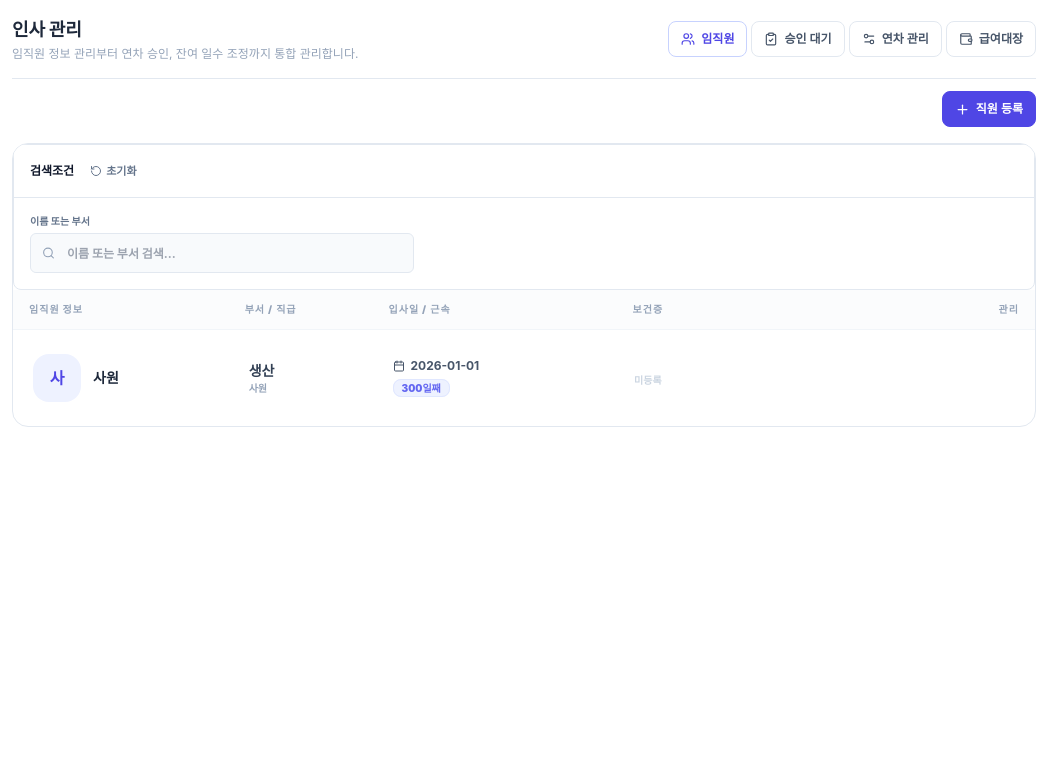
Test case: 격리 급여 명령 화면 후보 › 서버 버전 충돌 실패는 입력을 보존하고 성공 메시지를 표시하지 않는다
Click the button "급여대장" at [991, 39], box [946,21,1036,57]
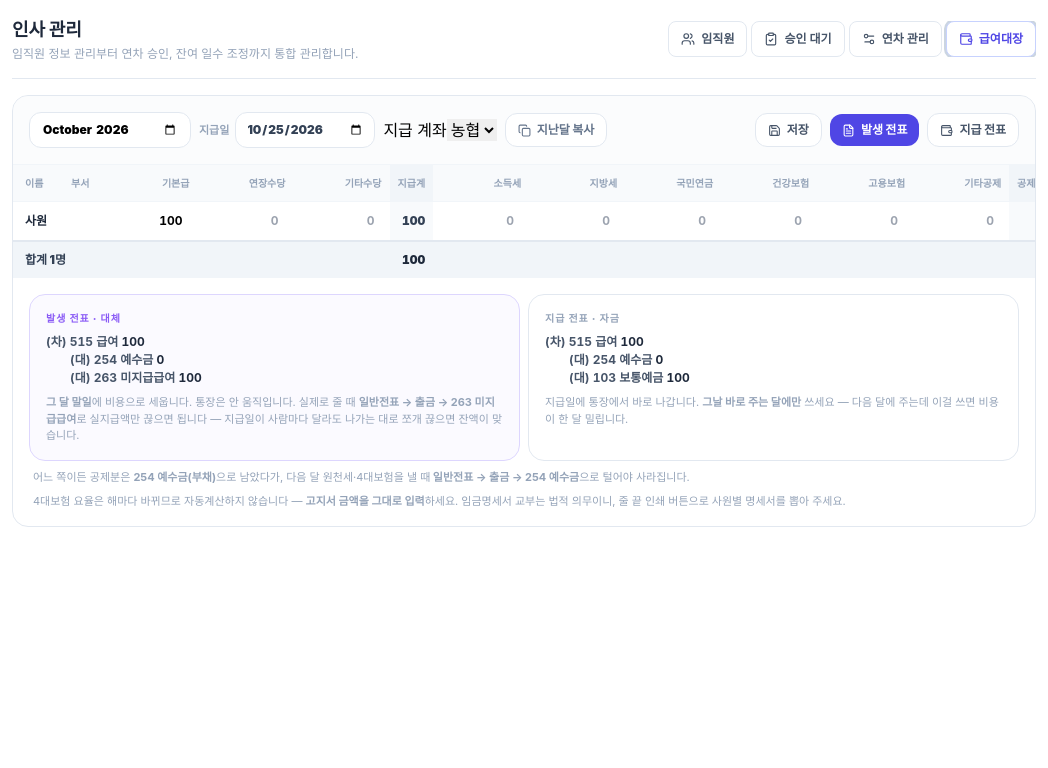
Click the button "저장" at [788, 130], box [755,113,822,147]
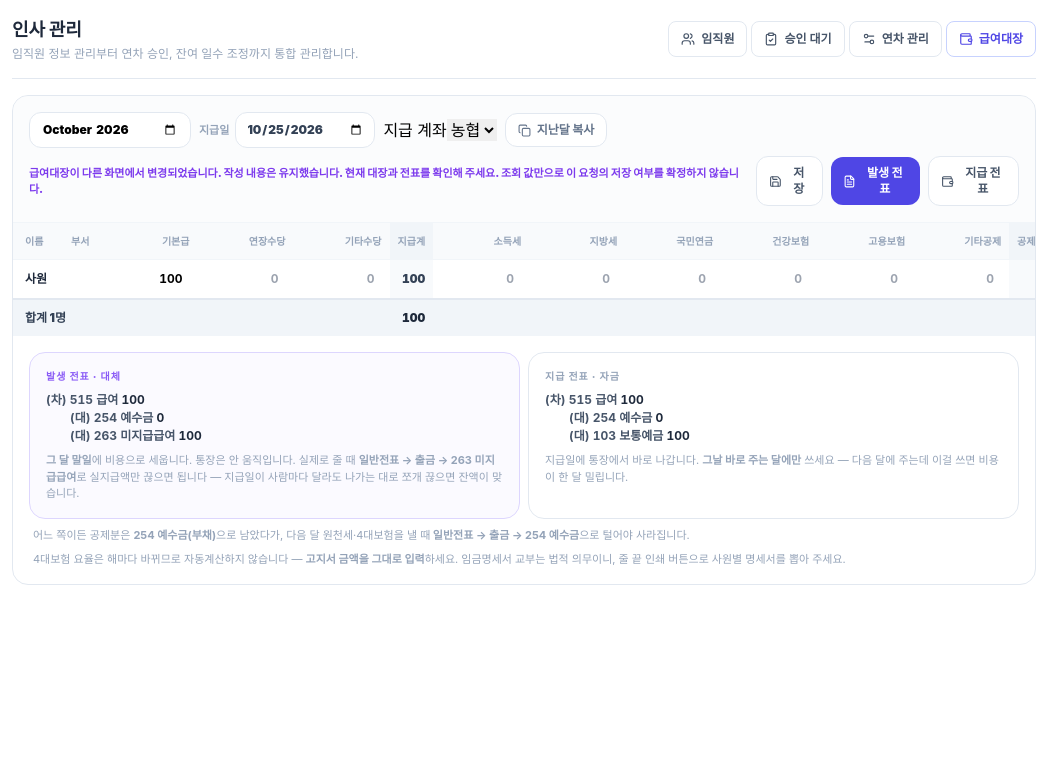
Check: the field showing "100" is shown, box [110,266,190,292]
Check: the text "급여대장이 다른 화면에서 변경되었습니다" is shown, box [29,166,739,196]
